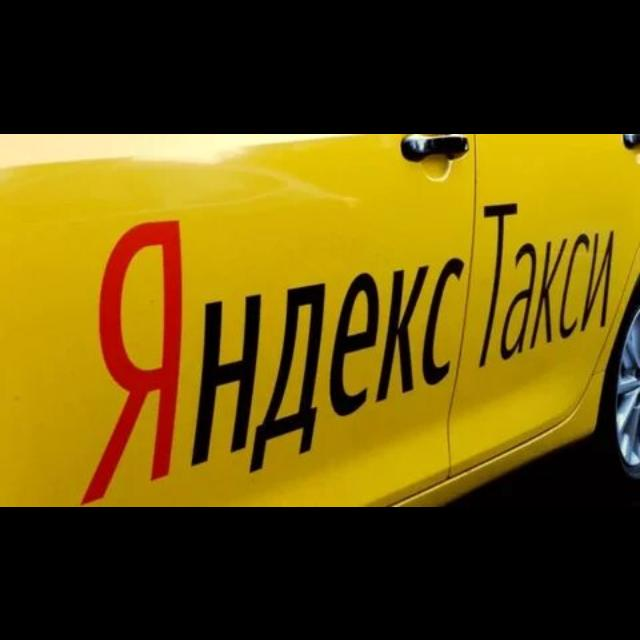taxi: (2, 134, 639, 506)
